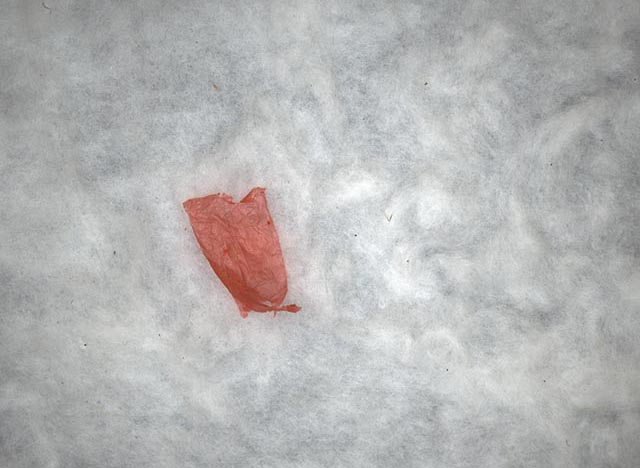plastic film: (180, 187, 303, 316)
